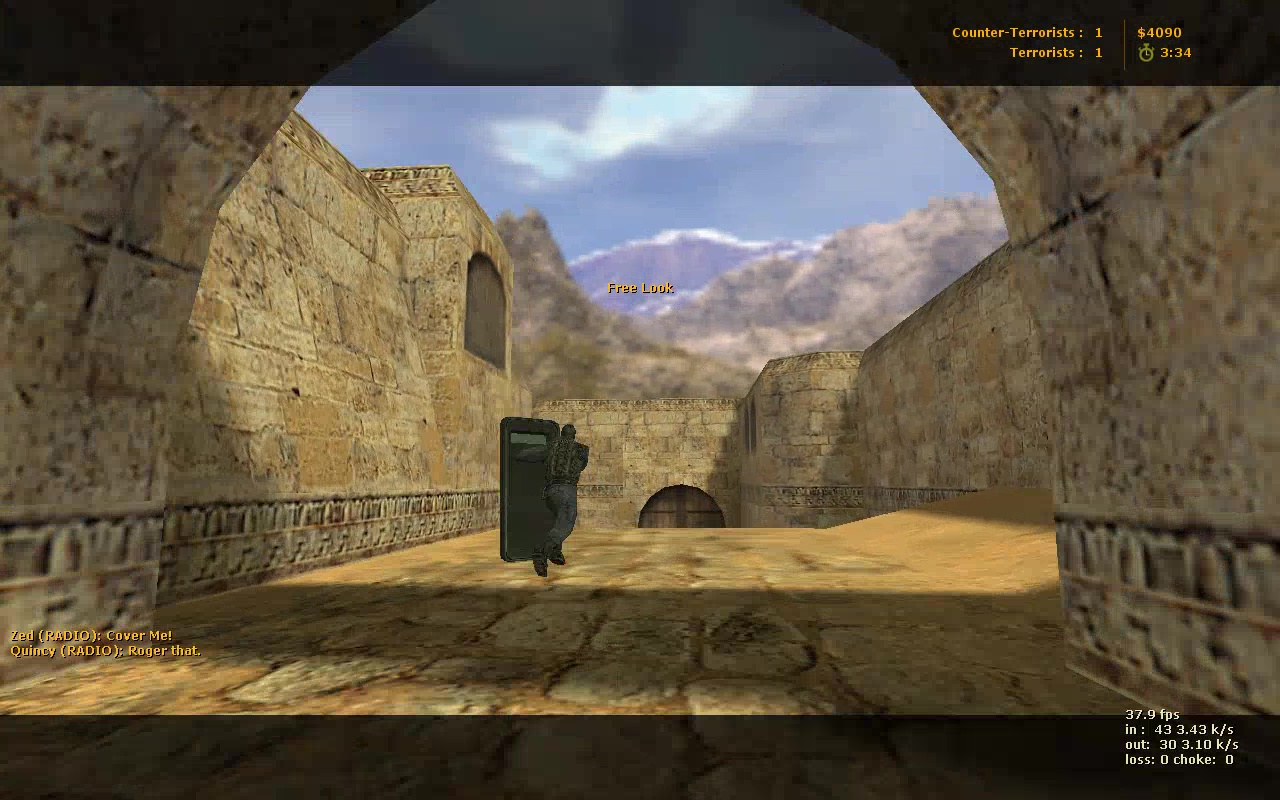ct: (501, 415, 589, 577)
